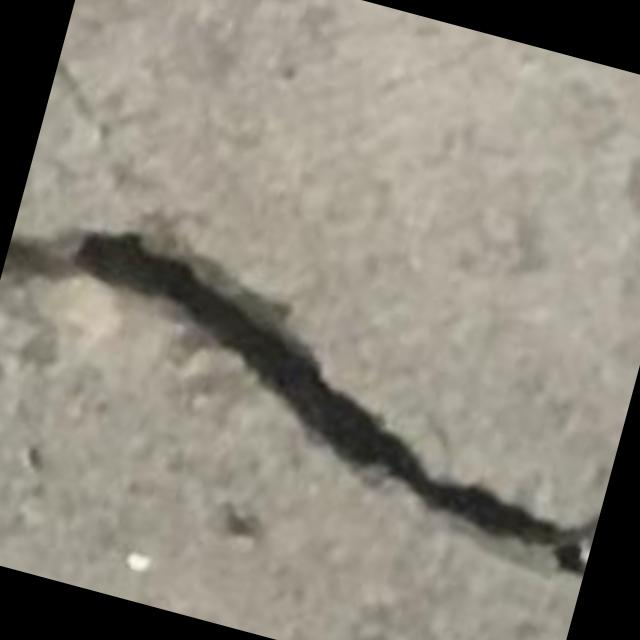crack: (2, 230, 597, 575)
